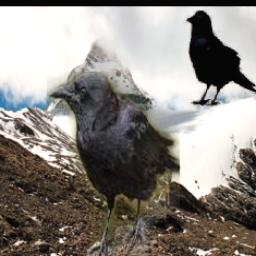Crow: (47, 73, 180, 256), (183, 9, 256, 107)
